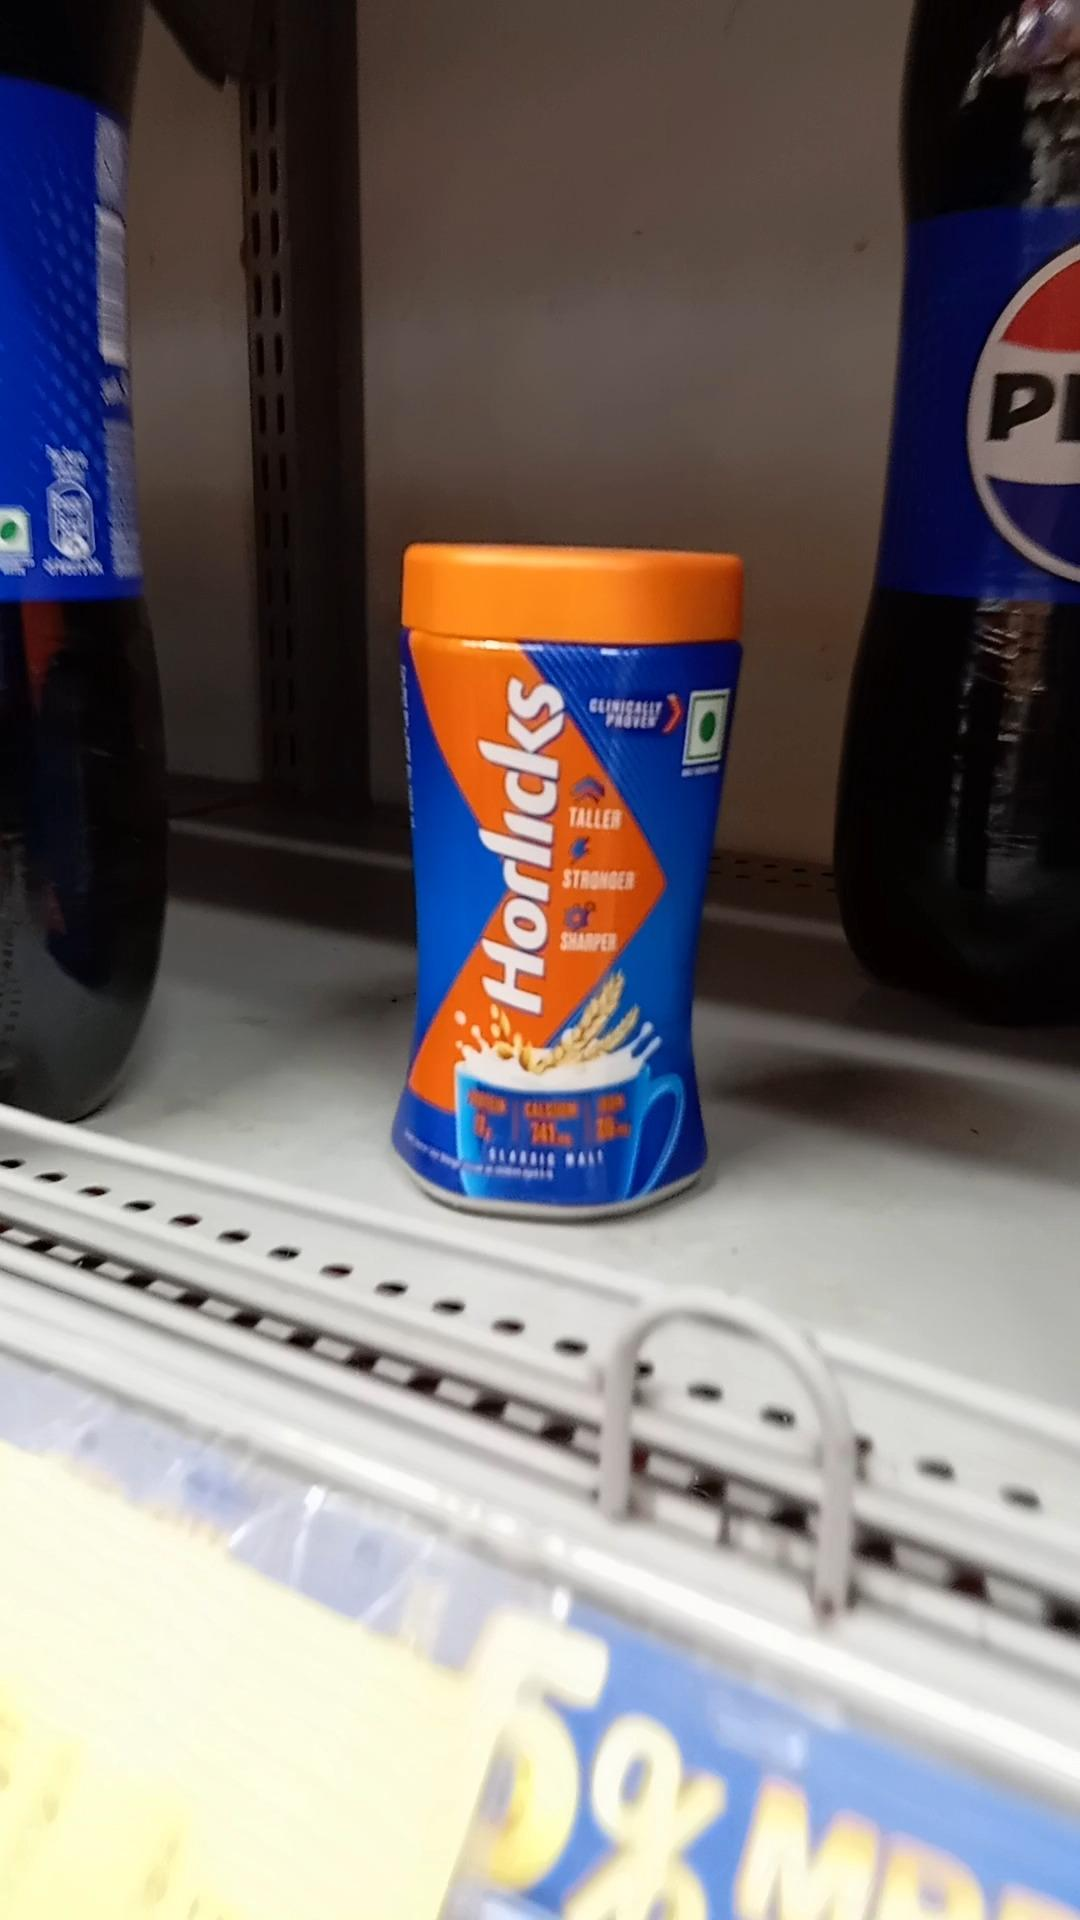HORLICK_CLASSIC_MALT_200_G_JAR: (398, 530, 738, 1211)
